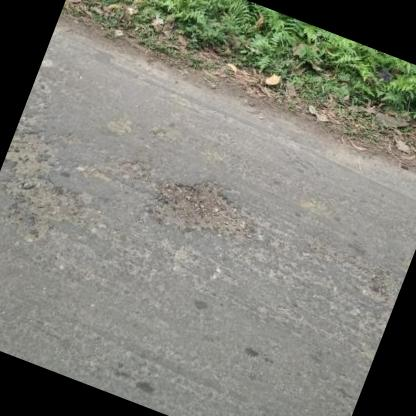pothole: (142, 163, 267, 258), (0, 164, 91, 238), (3, 124, 58, 175)
